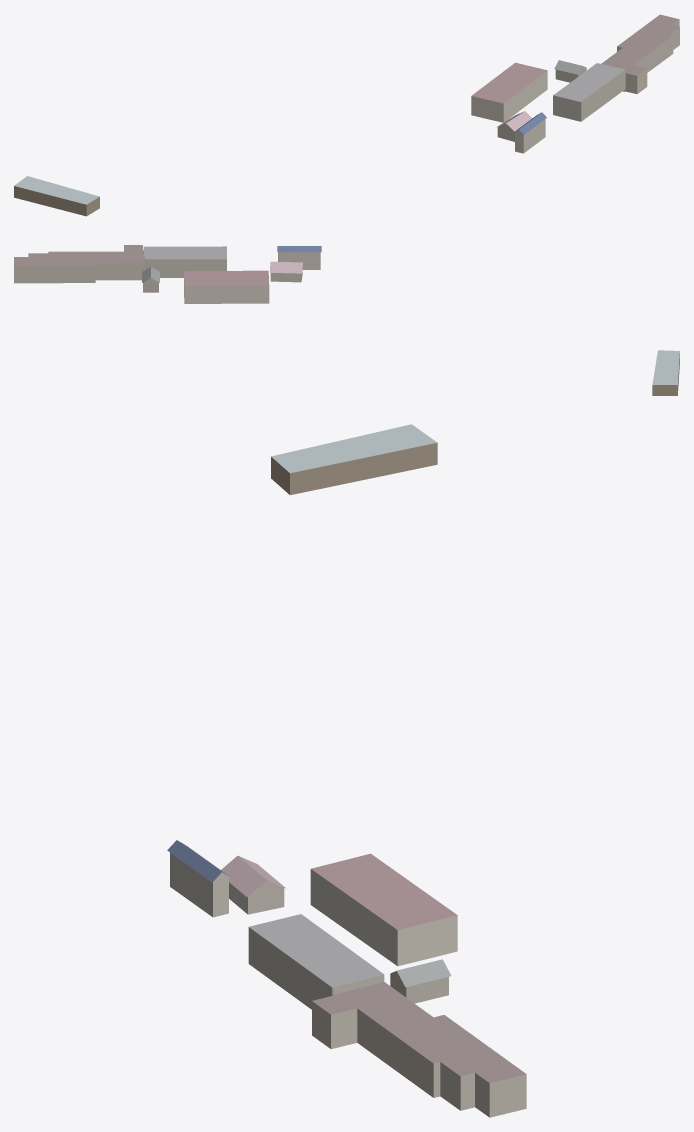
3 renders of one model, top to bottom at view 1: azimuth 30°, elevation 25°; view 2: azimuth 150°, elevation 25°; view 3: azimuth 270°, elevation 25°, orthographic. The views are drawn at different scales.
Parts seen in each view (by area): view 1: tuile; view 2: tuile; view 3: tuile.
Part boxes in pixels (x1,y1,x2,y2): tuile: [14, 14, 679, 216]; tuile: [14, 245, 679, 395]; tuile: [167, 424, 526, 1117].
Size of the model in its own units: 265 by 12.72 by 64.1.
